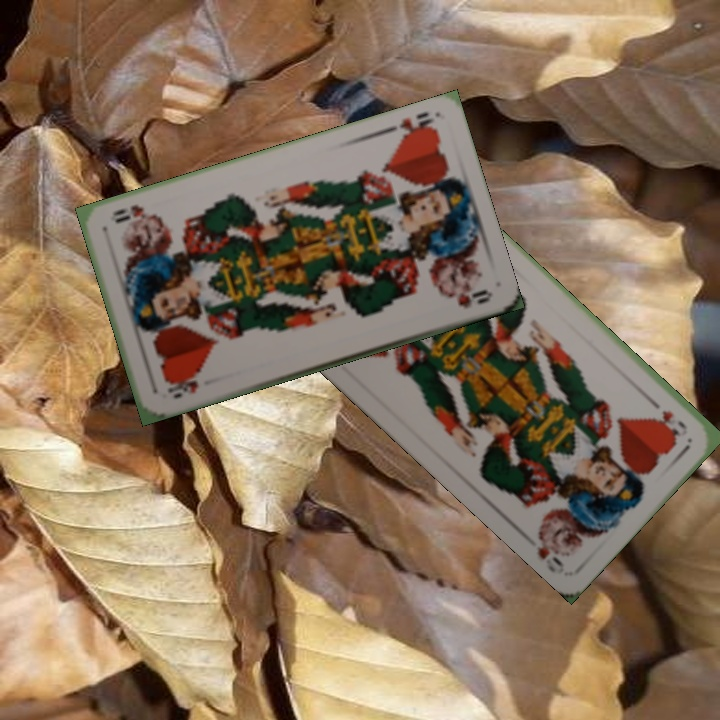HO: (644, 394, 691, 439), (380, 108, 439, 142), (163, 376, 201, 401)
